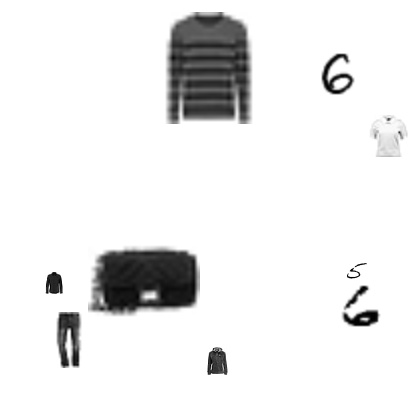5: (341, 257, 369, 285)
6: (332, 284, 388, 340), (306, 48, 362, 104)
Bag: (88, 223, 200, 335)
Coat: (203, 347, 231, 375)
Pullover: (151, 12, 263, 124)
Shirt: (43, 272, 65, 294)
T-shirt/top: (367, 115, 409, 157)
Trouser: (41, 312, 97, 368)
